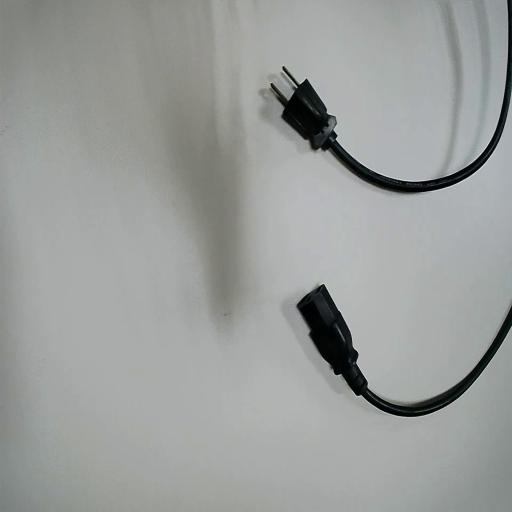wire: (272, 0, 511, 192), (298, 286, 511, 415)
